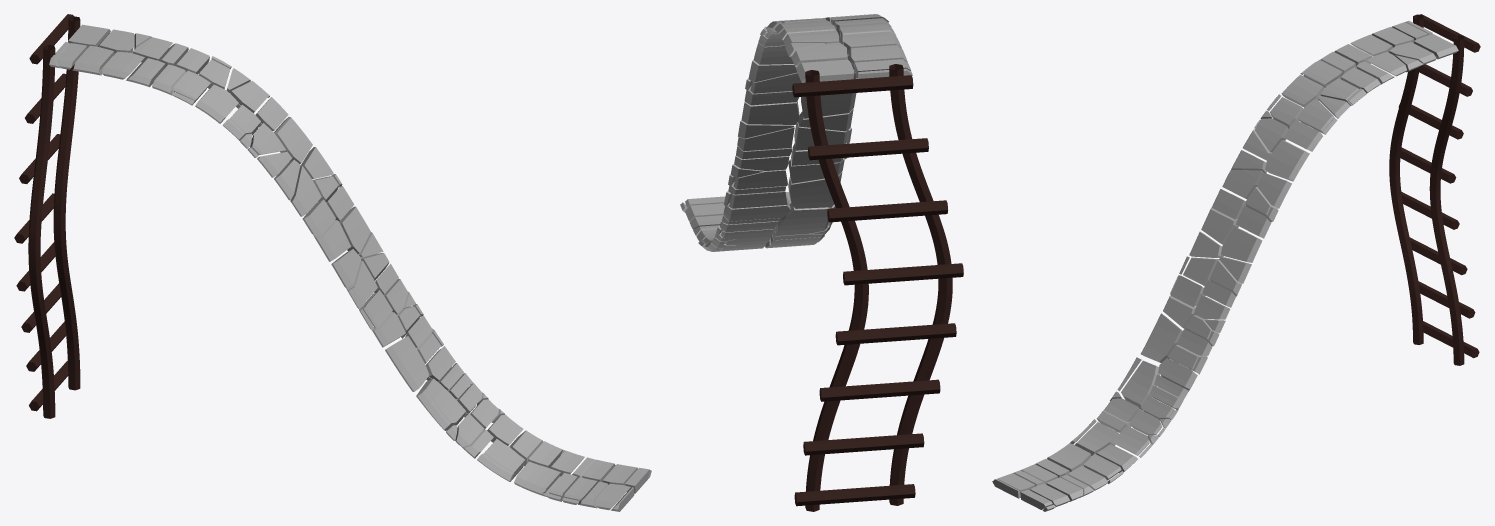
File: slide.fbx
3 views of the same model, side by side, from view 1: azimuth 30°, elevation 25°; view 2: azimuth 150°, elevation 25°; view 3: azimuth 270°, elevation 25° (orthographic). The views are drawn at different scales.
Parts seen in each view (by area): view 1: NurbsPath.010_cell.095, NurbsPath.025, NurbsPath.026; view 2: NurbsPath.010_cell.095, NurbsPath.026, NurbsPath.025, NurbsPath.023, NurbsPath.021, NurbsPath.020, NurbsPath.022, NurbsPath.019, NurbsPath.017, NurbsPath.024, NurbsPath.018; view 3: NurbsPath.010_cell.095, NurbsPath.026, NurbsPath.025, NurbsPath.017, NurbsPath.021, NurbsPath.024.
Part boxes in pixels (<box>): NurbsPath.010_cell.095: <box>49,24,651,511</box>; NurbsPath.025: <box>28,44,55,418</box>; NurbsPath.026: <box>53,16,80,390</box>; NurbsPath.010_cell.095: <box>680,14,912,251</box>; NurbsPath.026: <box>805,70,868,511</box>; NurbsPath.025: <box>889,64,952,505</box>; NurbsPath.023: <box>803,433,924,455</box>; NurbsPath.021: <box>835,323,956,345</box>; NurbsPath.020: <box>843,263,963,285</box>; NurbsPath.022: <box>819,379,940,401</box>; NurbsPath.019: <box>827,200,947,222</box>; NurbsPath.017: <box>792,75,913,97</box>; NurbsPath.024: <box>794,484,915,506</box>; NurbsPath.018: <box>808,138,928,160</box>; NurbsPath.010_cell.095: <box>992,20,1458,511</box>; NurbsPath.026: <box>1429,35,1464,365</box>; NurbsPath.025: <box>1389,14,1423,344</box>; NurbsPath.017: <box>1420,14,1480,52</box>; NurbsPath.021: <box>1401,191,1459,229</box>; NurbsPath.024: <box>1423,321,1479,358</box>.
Size of the model in its own units: 627 by 505 by 683.
